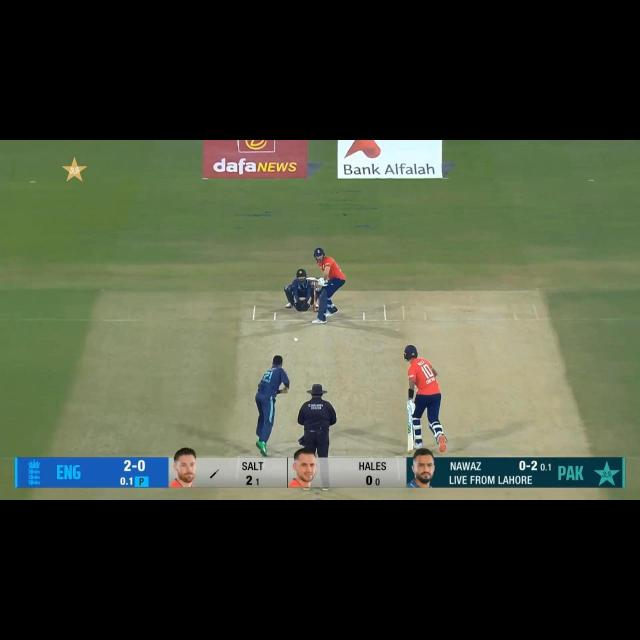bat: (406, 424, 414, 454), (305, 275, 318, 283)
toe: (406, 445, 414, 455), (305, 277, 311, 281)
